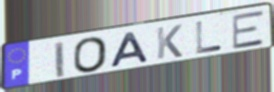A: (109, 30, 152, 69)
E: (230, 9, 266, 51)
I: (53, 39, 66, 79)
K: (155, 23, 184, 61)
L: (194, 20, 224, 56)
O: (72, 35, 109, 74)
